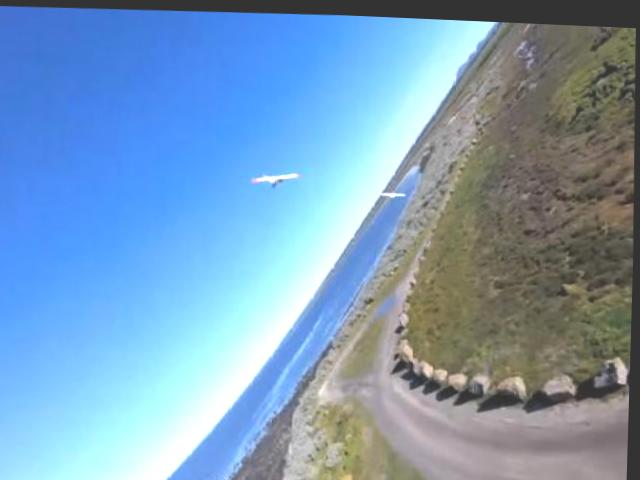uav: (250, 167, 302, 185), (378, 185, 409, 194)
